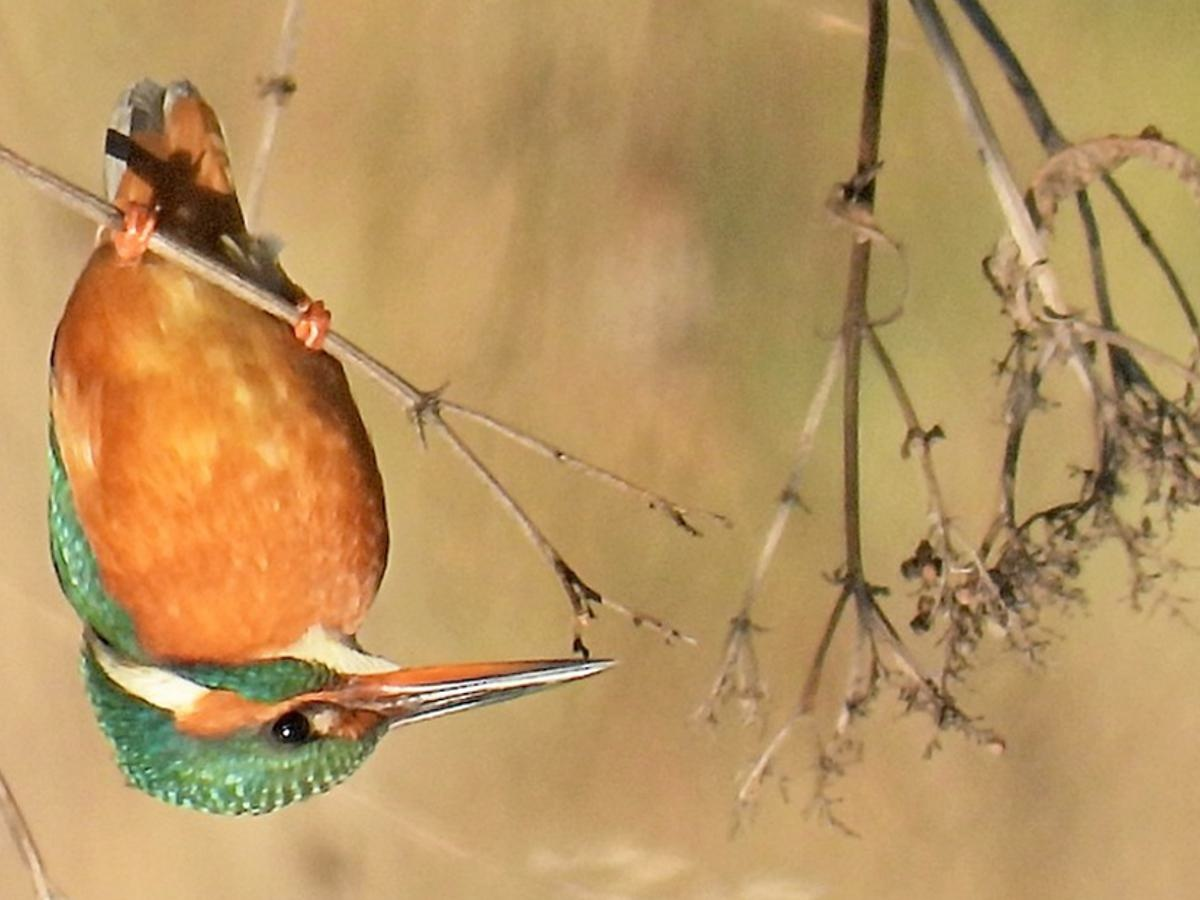kingfisher: (59, 91, 621, 828)
